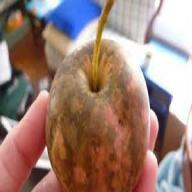apple: (46, 33, 149, 189)
